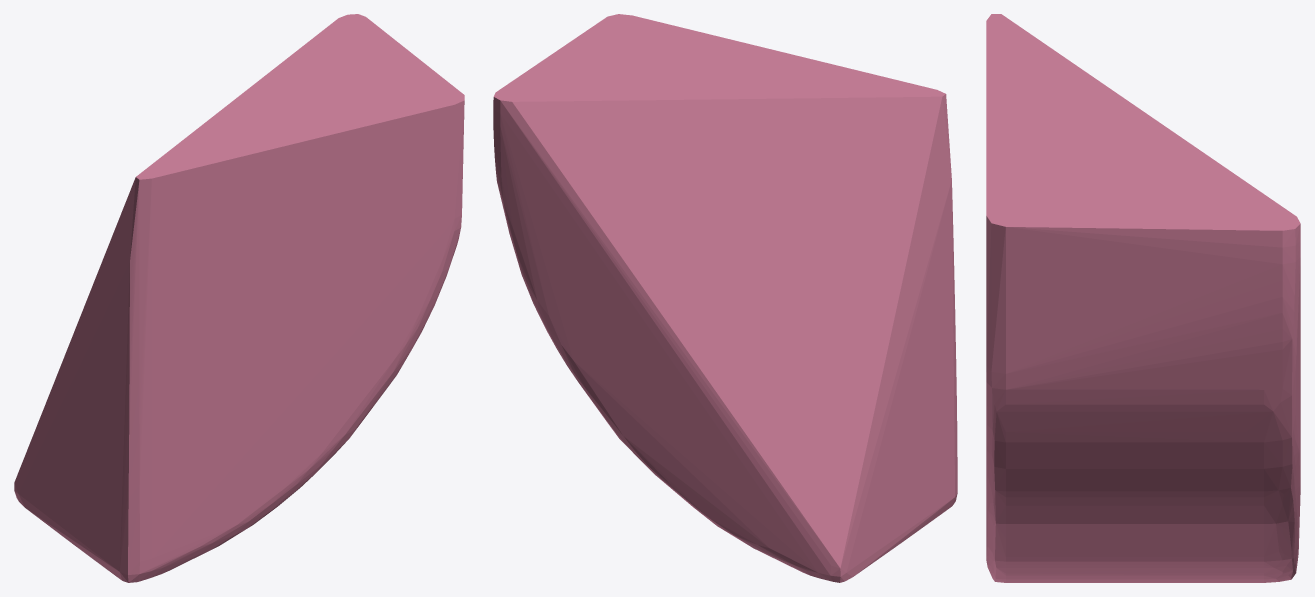
Rendered from right-hip-pitch-0_part_24.obj.
3 renders of one model, left to right at view 1: azimuth 30°, elevation 25°; view 2: azimuth 150°, elevation 25°; view 3: azimuth 270°, elevation 25°, orthographic. The views are drawn at different scales.
Bounding box in the file's own units: 0.0655 × 0.0721 × 0.0385.
